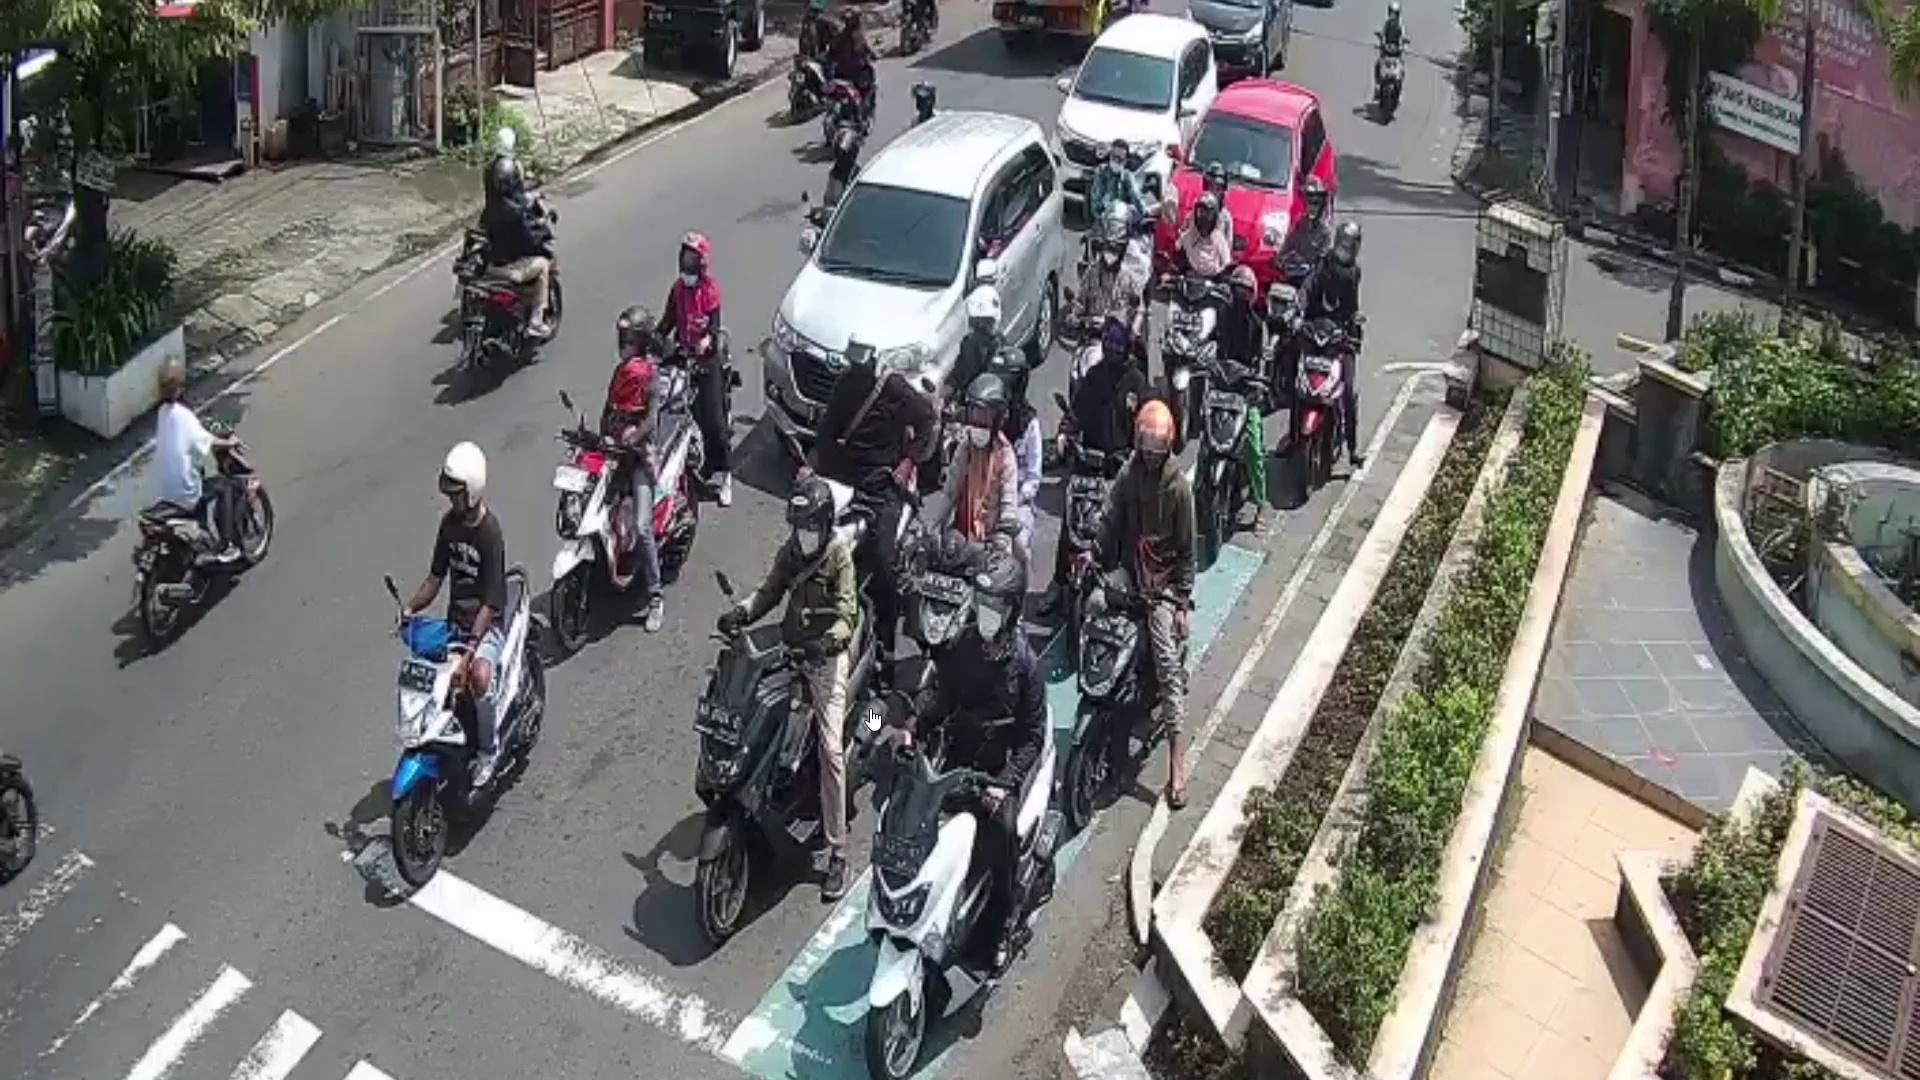car: (766, 107, 1068, 460), (1158, 78, 1338, 303), (1073, 1, 1236, 198), (1199, 0, 1292, 88)
motorbike: (868, 694, 1060, 1080), (699, 607, 885, 943), (389, 560, 546, 890), (545, 405, 692, 650), (136, 422, 272, 655), (1077, 579, 1195, 825), (1191, 359, 1254, 562), (1288, 322, 1352, 506), (460, 272, 560, 384), (1374, 38, 1410, 132)
